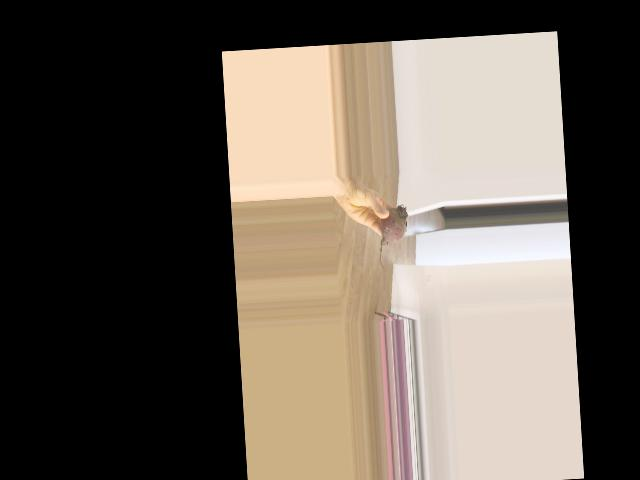beet: (376, 205, 410, 271)
